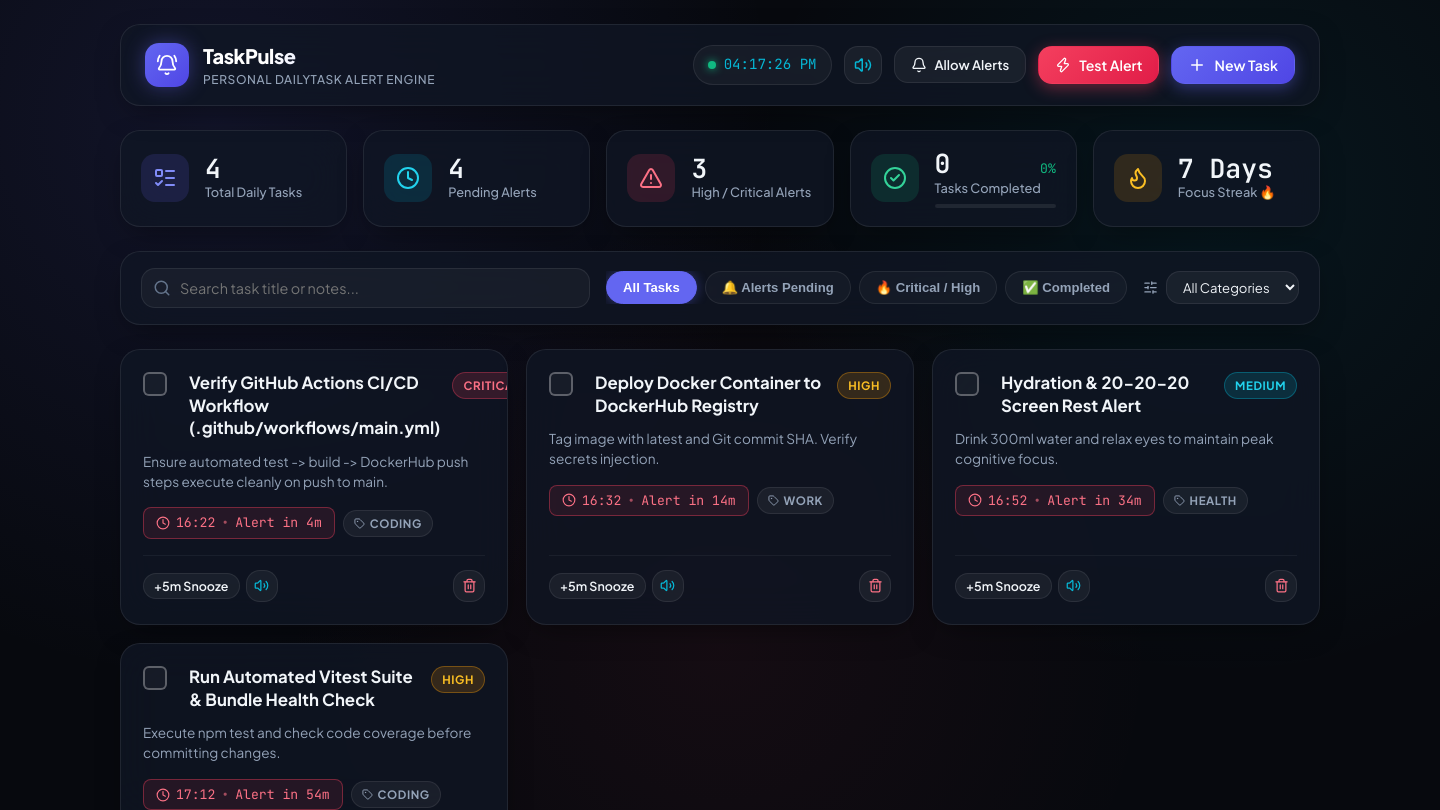
Test case: TaskPulse App - Personal DailyTask Alert Engine › filters task list when search query is entered
Type "Hydration" into the field with placeholder "Search task title or notes...".
click(366, 288); type("Hydration")  # box [141,268,590,308]
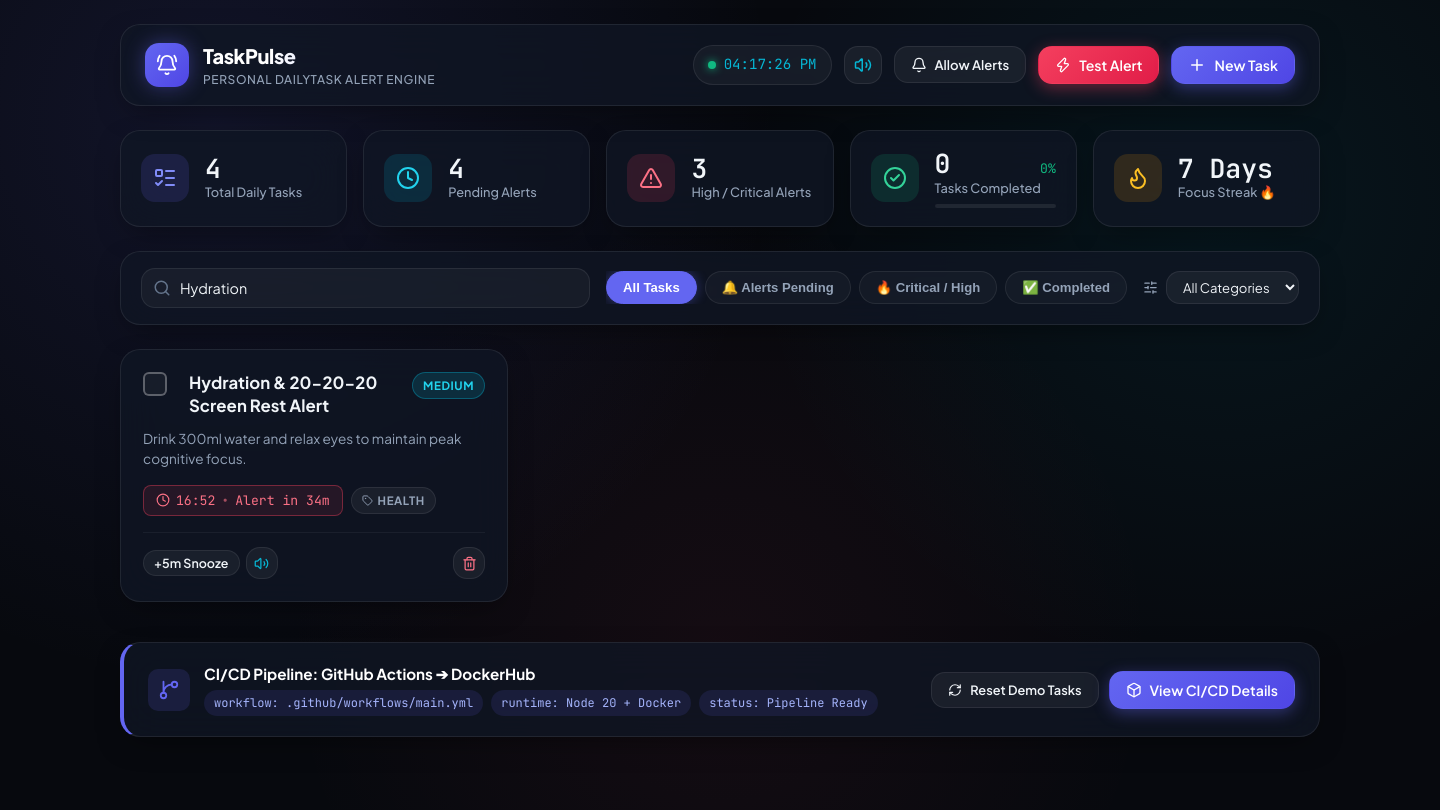
Expected: the heading "Hydration & 20-20-20 Screen Rest Alert" is shown, [189,372,400,417]
Result: the heading "Verify GitHub Actions CI/CD Workflow" is gone
